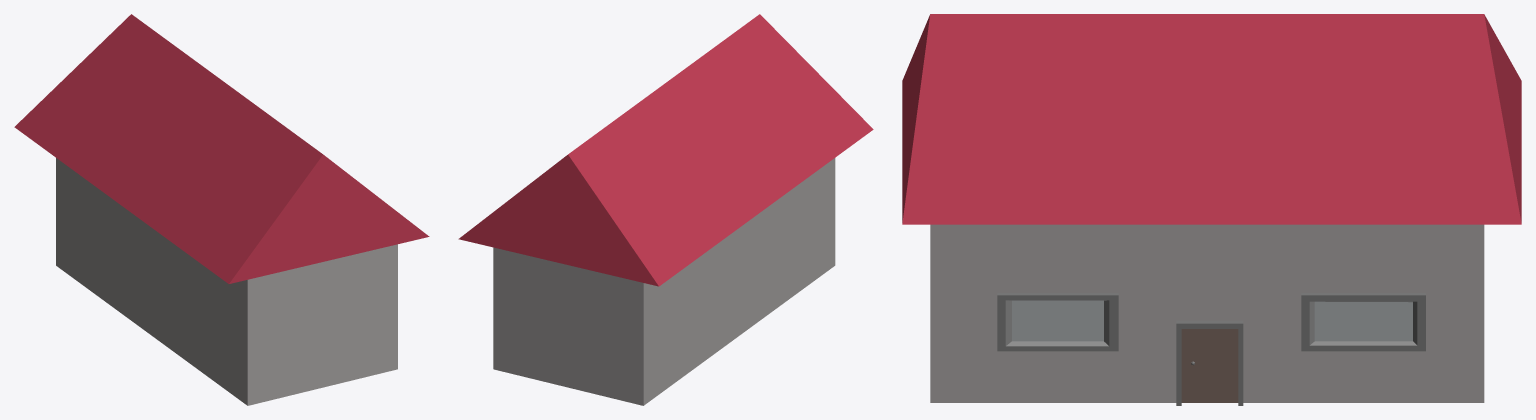
The model's file is Small2.fbx.
The picture shows the model from 3 angles, left to right: view 1: azimuth 30°, elevation 25°; view 2: azimuth 150°, elevation 25°; view 3: azimuth 270°, elevation 25°; orthographic projection. The views are drawn at different scales.
Visible parts, largest first — view 1: pCube2; view 2: pCube2; view 3: pCube2.
Part boxes in pixels (x1=…): pCube2: x1=14, y1=14, x2=429, y2=405; pCube2: x1=458, y1=14, x2=873, y2=405; pCube2: x1=902, y1=14, x2=1521, y2=405.
Bounding box in the file's own units: 7.99 × 8.86 × 14.79.
